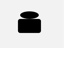human: (16, 7, 42, 35)
